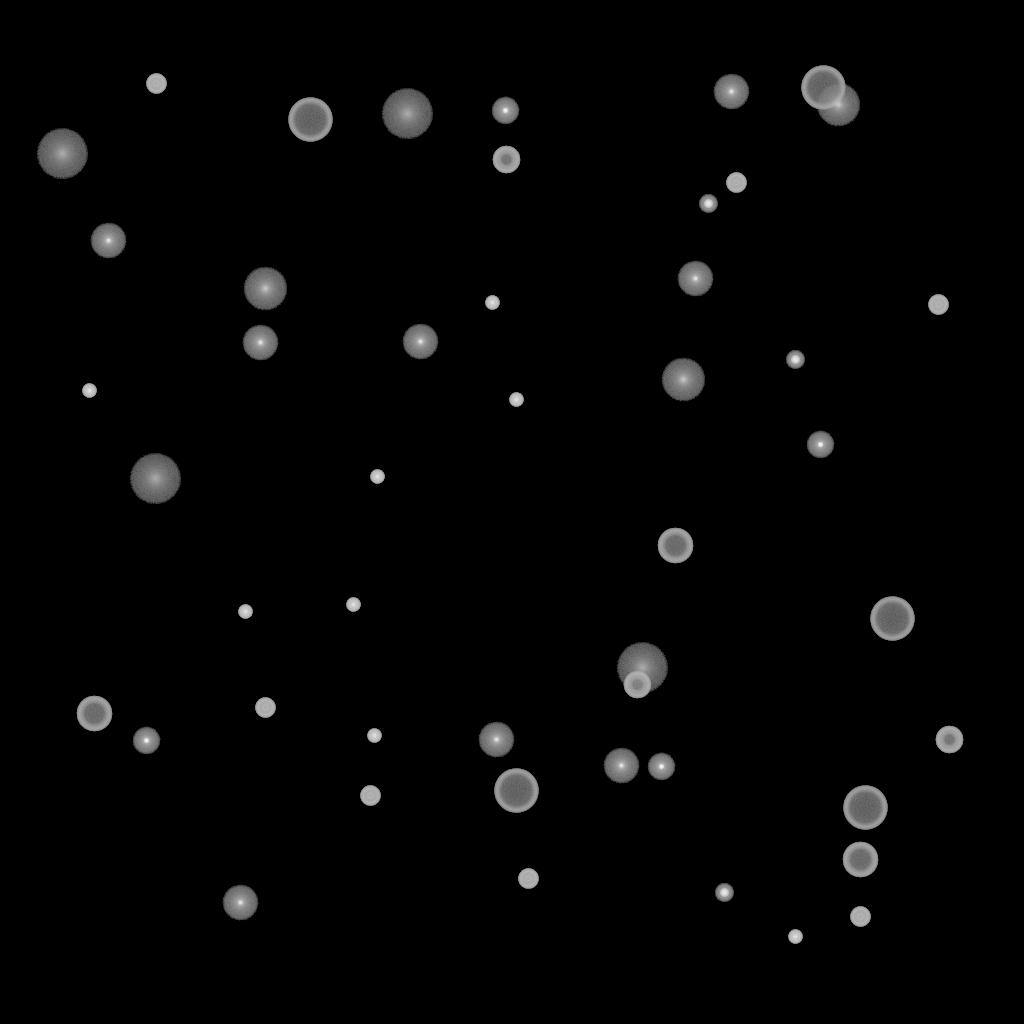depth:-10: (806, 431, 834, 459), (132, 727, 160, 755), (491, 97, 519, 125), (647, 753, 675, 781)
depth:-20: (786, 351, 804, 369), (715, 884, 733, 902), (699, 195, 717, 213)
depth:-30: (367, 729, 381, 743), (346, 598, 360, 612), (485, 296, 499, 310), (370, 470, 384, 484), (788, 930, 802, 944), (509, 393, 523, 407), (82, 384, 96, 398), (238, 605, 252, 619)
depth:-40: (146, 74, 166, 94), (726, 173, 746, 193), (518, 869, 538, 889), (360, 786, 380, 806), (850, 907, 870, 927), (928, 295, 948, 315), (255, 698, 275, 718)
depth:-50: (492, 146, 520, 174), (623, 671, 651, 699), (935, 726, 963, 754)
depth:-60: (657, 528, 693, 564), (76, 696, 112, 732), (842, 842, 878, 878)
depth:-70: (843, 786, 887, 830), (288, 98, 332, 142), (494, 769, 538, 813), (801, 66, 845, 110), (870, 597, 914, 641)
depth:0: (478, 722, 514, 758), (402, 324, 438, 360), (603, 748, 639, 784), (222, 885, 258, 921), (242, 325, 278, 361), (713, 74, 749, 110), (90, 223, 126, 259), (677, 261, 713, 297)
depth:10: (243, 267, 287, 311), (661, 358, 705, 402), (816, 83, 860, 127)
depth:20: (381, 89, 433, 139), (129, 454, 181, 504), (36, 129, 88, 179), (616, 643, 668, 693)
